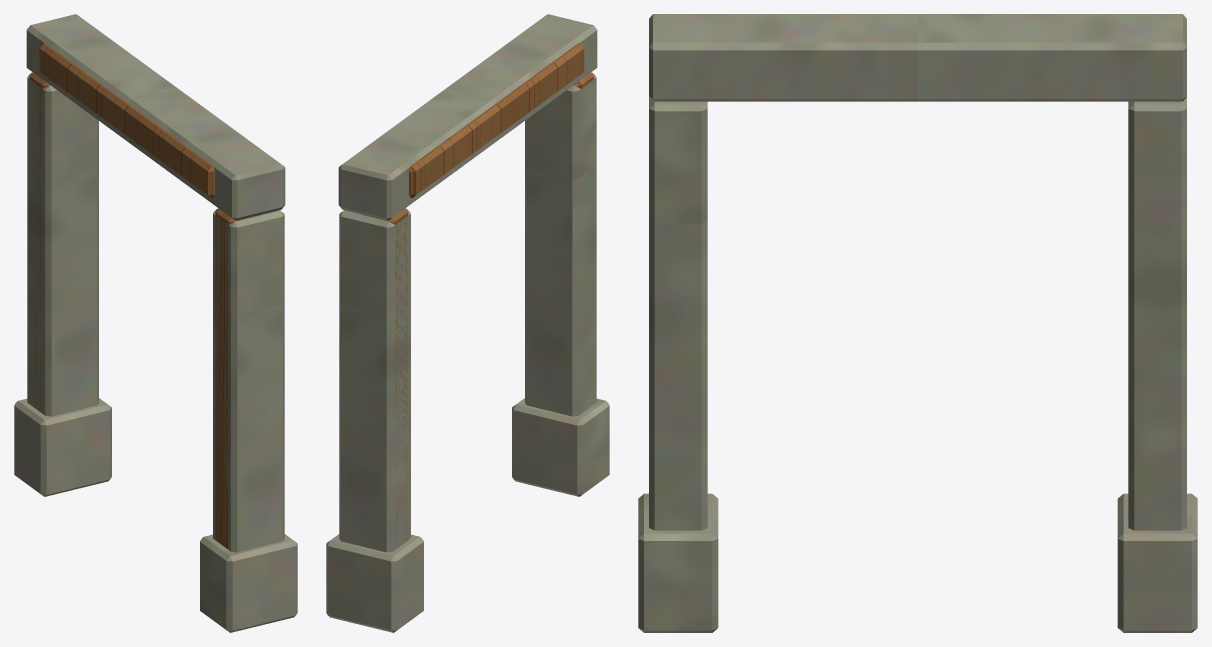
Rendered from SM_HH_V2_DoorFrame.fbx.
3 views of the same model, side by side, from view 1: azimuth 30°, elevation 25°; view 2: azimuth 150°, elevation 25°; view 3: azimuth 270°, elevation 25° (orthographic). The views are drawn at different scales.
Visible parts, largest first — view 1: HH_V2_DoorFrame; view 2: HH_V2_DoorFrame; view 3: HH_V2_DoorFrame.
Part boxes in pixels (box(x1,y1,x2,y2)): HH_V2_DoorFrame: box(14, 14, 297, 632); HH_V2_DoorFrame: box(326, 14, 609, 632); HH_V2_DoorFrame: box(638, 14, 1197, 632).
Bounding box in the file's own units: 2.1 × 0.4 × 2.42.
